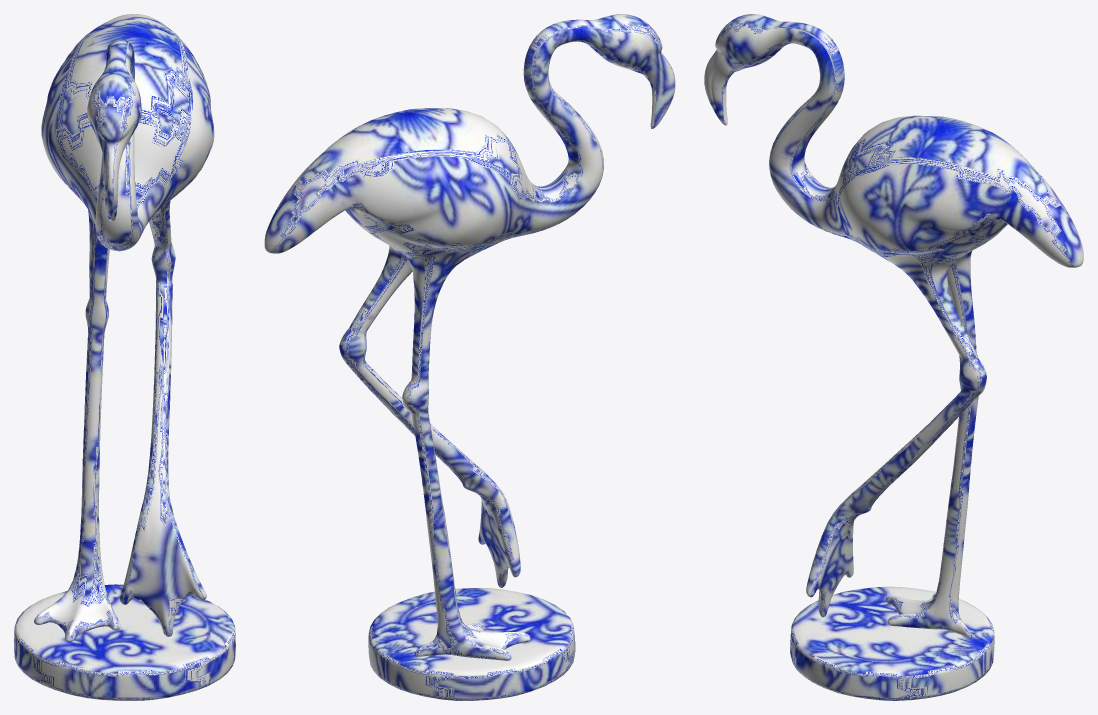
The model's file is bird.obj.
The picture shows the model from 3 angles, left to right: view 1: azimuth 30°, elevation 25°; view 2: azimuth 150°, elevation 25°; view 3: azimuth 270°, elevation 25°; orthographic projection. The views are drawn at different scales.
Parts seen in each view (by area): view 1: Arch34_013; view 2: Arch34_013; view 3: Arch34_013.
Part boxes in pixels (x1=…): Arch34_013: x1=14, y1=14, x2=235, y2=700; Arch34_013: x1=264, y1=14, x2=675, y2=700; Arch34_013: x1=704, y1=14, x2=1083, y2=700.
Size of the model in its own units: 465 by 1211 by 682.
